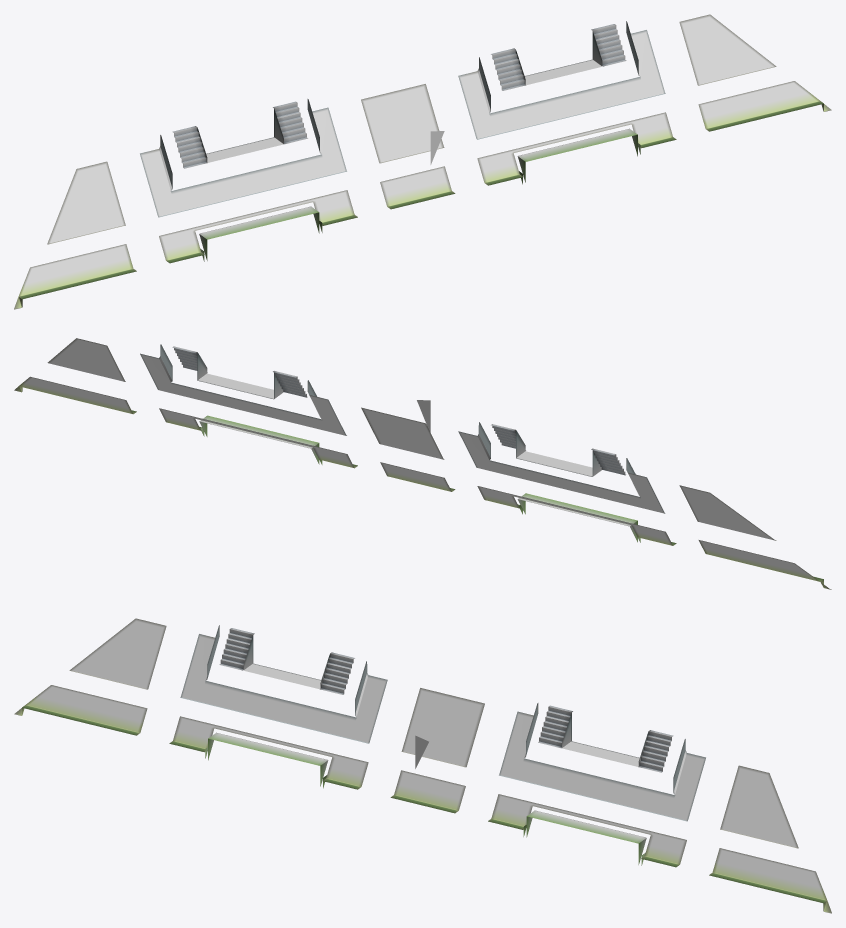
The model's file is SM_000564_merge_concrete03_2.fbx.
The picture shows the model from 3 angles, top to bottom: view 1: azimuth 30°, elevation 25°; view 2: azimuth 150°, elevation 25°; view 3: azimuth 330°, elevation 25°; orthographic projection.
Parts seen in each view (by area): view 1: SM_000564.001; view 2: SM_000564.001; view 3: SM_000564.001.
Boxes of the visible parts, x1,y1,x2,y2 form: SM_000564.001: (14,14,831,309); SM_000564.001: (14,338,831,589); SM_000564.001: (14,618,831,913).
Bounding box in the file's own units: 139 × 17.85 × 10.98.
